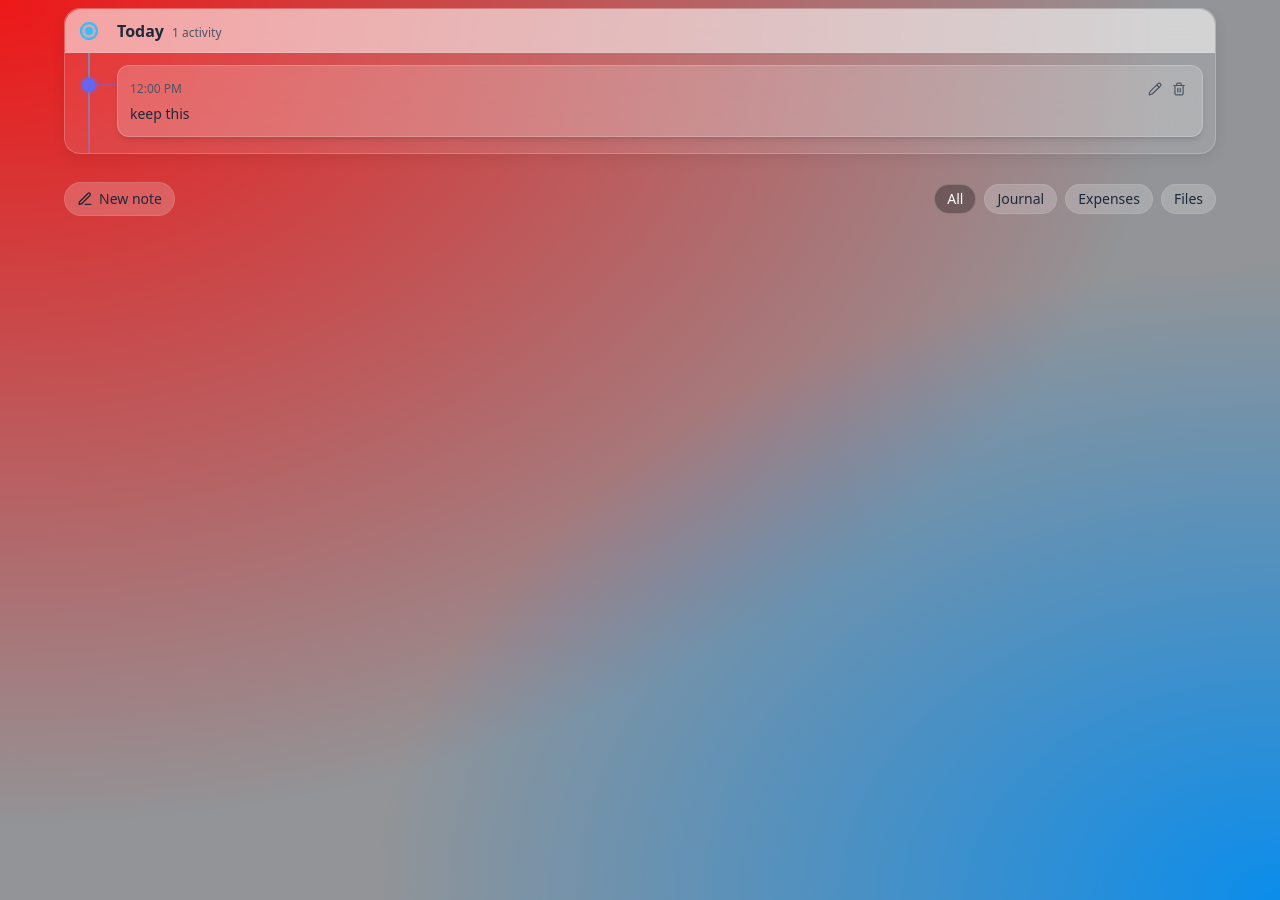
Test: editing and deleting notes › cancels an edit without changing anything
The image size is (1280, 900).
Check: the text "keep this" is shown, box [130, 104, 190, 123]
Click the button named "Edit note" at coordinates (1155, 89), box [1144, 78, 1166, 100]
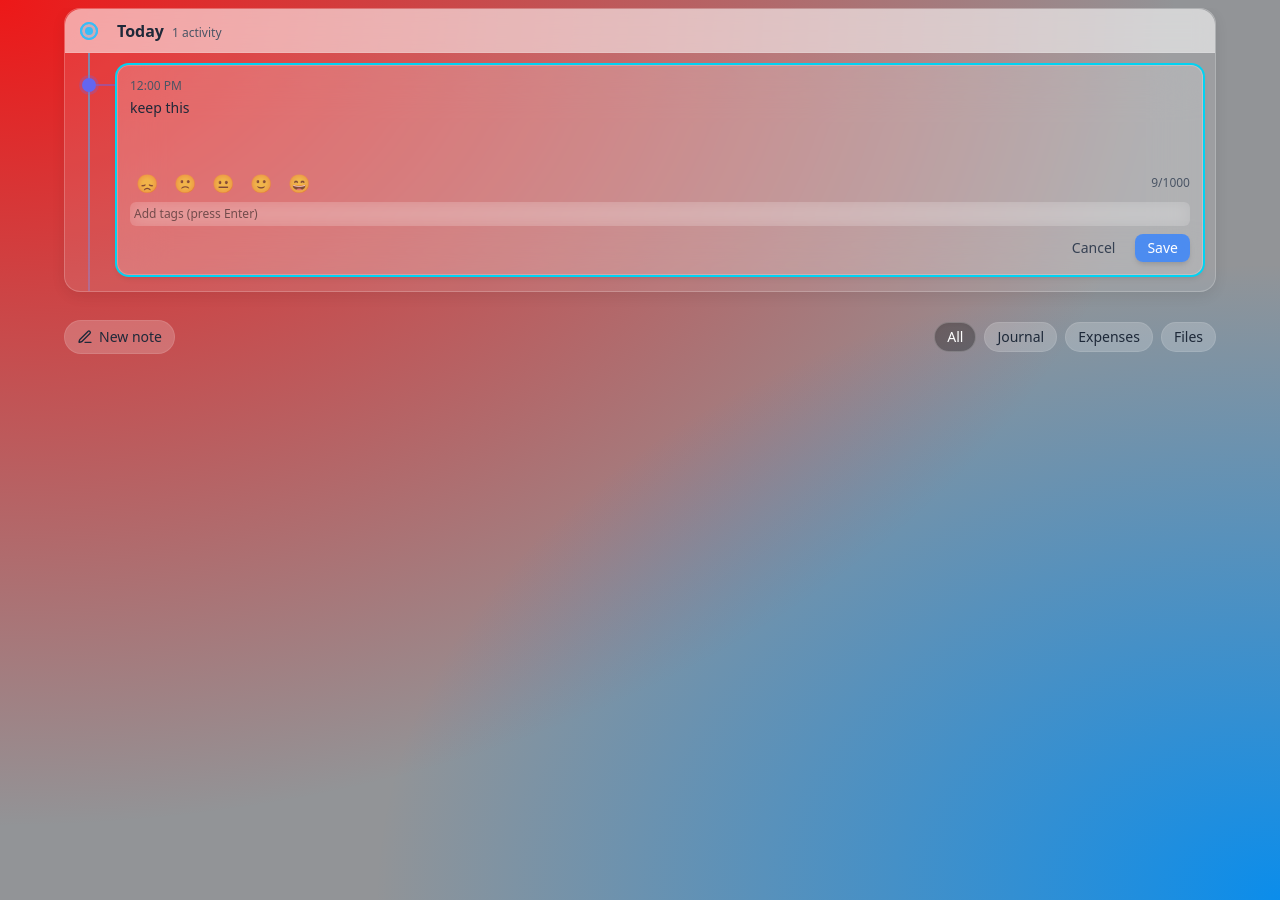
Type " extra" into the text box named "Note text" at coordinates (660, 128), box [130, 98, 1190, 158]
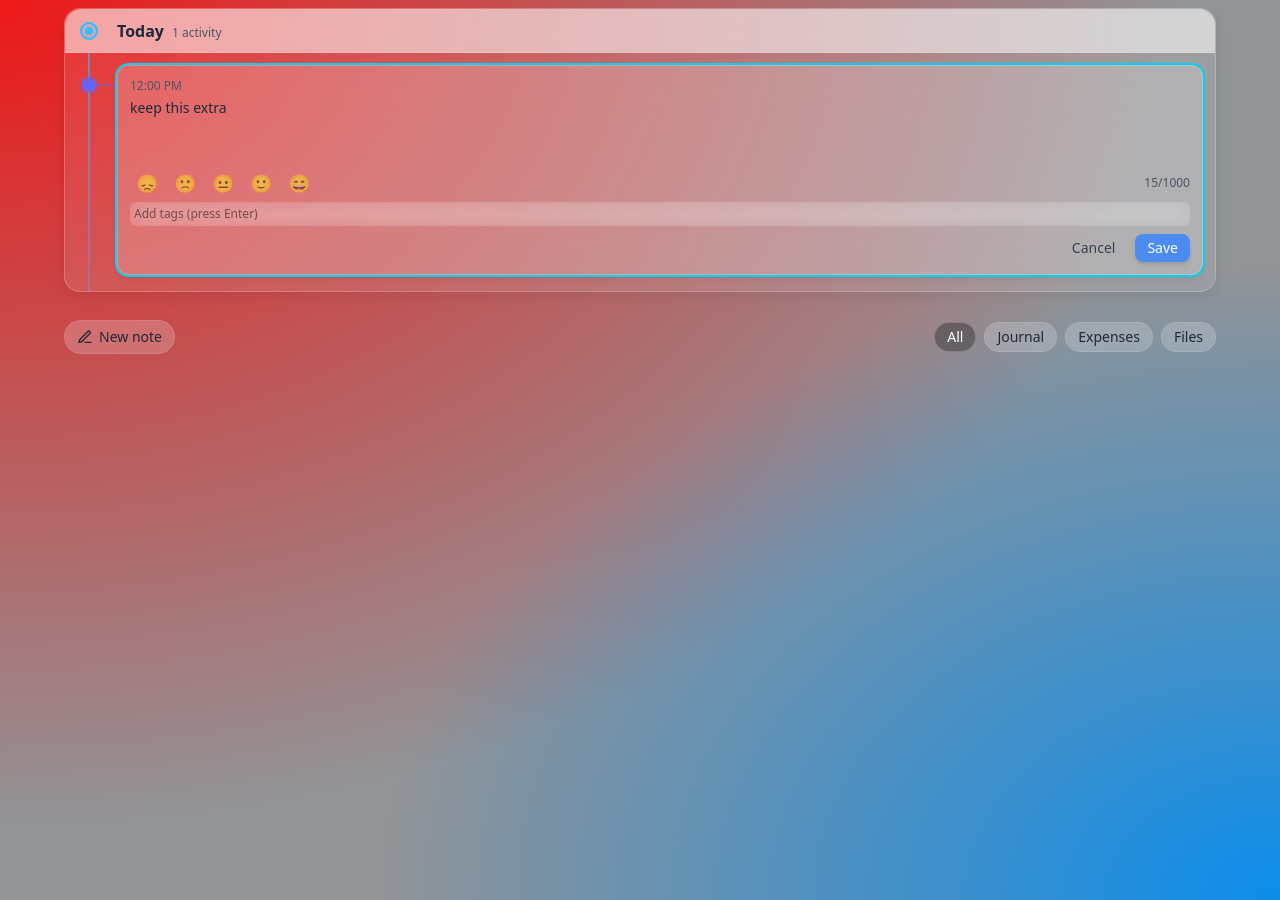
Click the button "Cancel" at coordinates (1094, 248), box [1060, 234, 1127, 262]
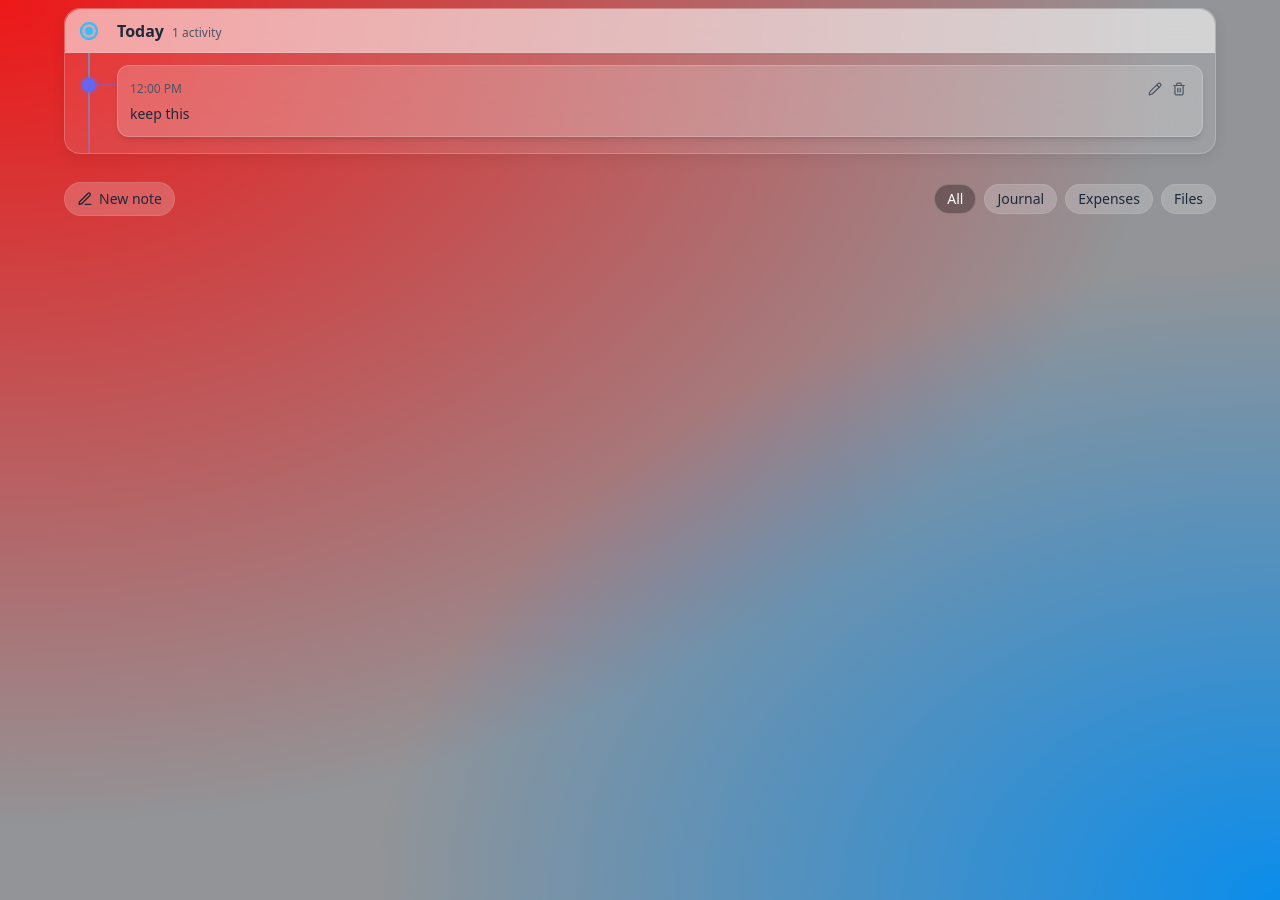
Check: the text "keep this" is shown, box [130, 104, 190, 123]
